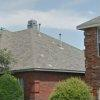Chimney: (20, 12, 41, 33)
